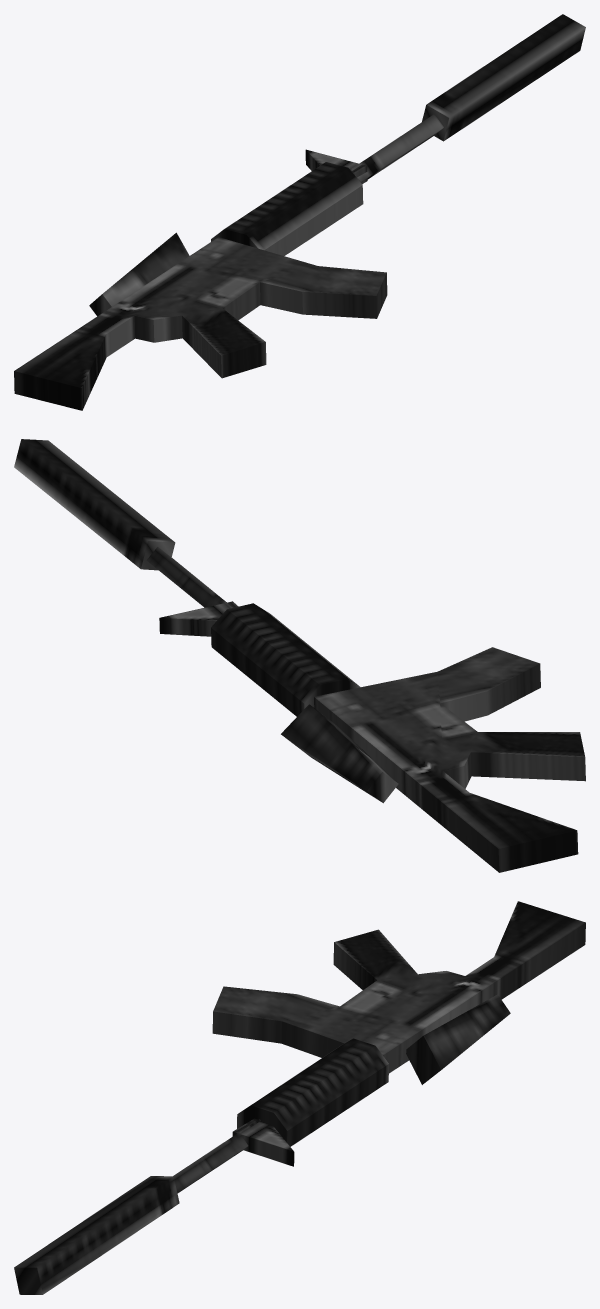
The model's file is m4a1-drop.glb.
3 views of the same model, one above another, from view 1: azimuth 90°, elevation 25°; view 2: azimuth 150°, elevation 25°; view 3: azimuth 270°, elevation 25° (orthographic). The views are drawn at different scales.
Parts seen in each view (by area): view 1: m4a1 dropped.001; view 2: m4a1 dropped.001; view 3: m4a1 dropped.001.
Boxes of the visible parts, left/top/right/bottom form: m4a1 dropped.001: left=14, top=14, right=585, bottom=410; m4a1 dropped.001: left=14, top=439, right=585, bottom=872; m4a1 dropped.001: left=14, top=901, right=585, bottom=1294.
Size of the model in its own units: 0.888 by 0.0557 by 0.5761.
1 material, 1 textured.
